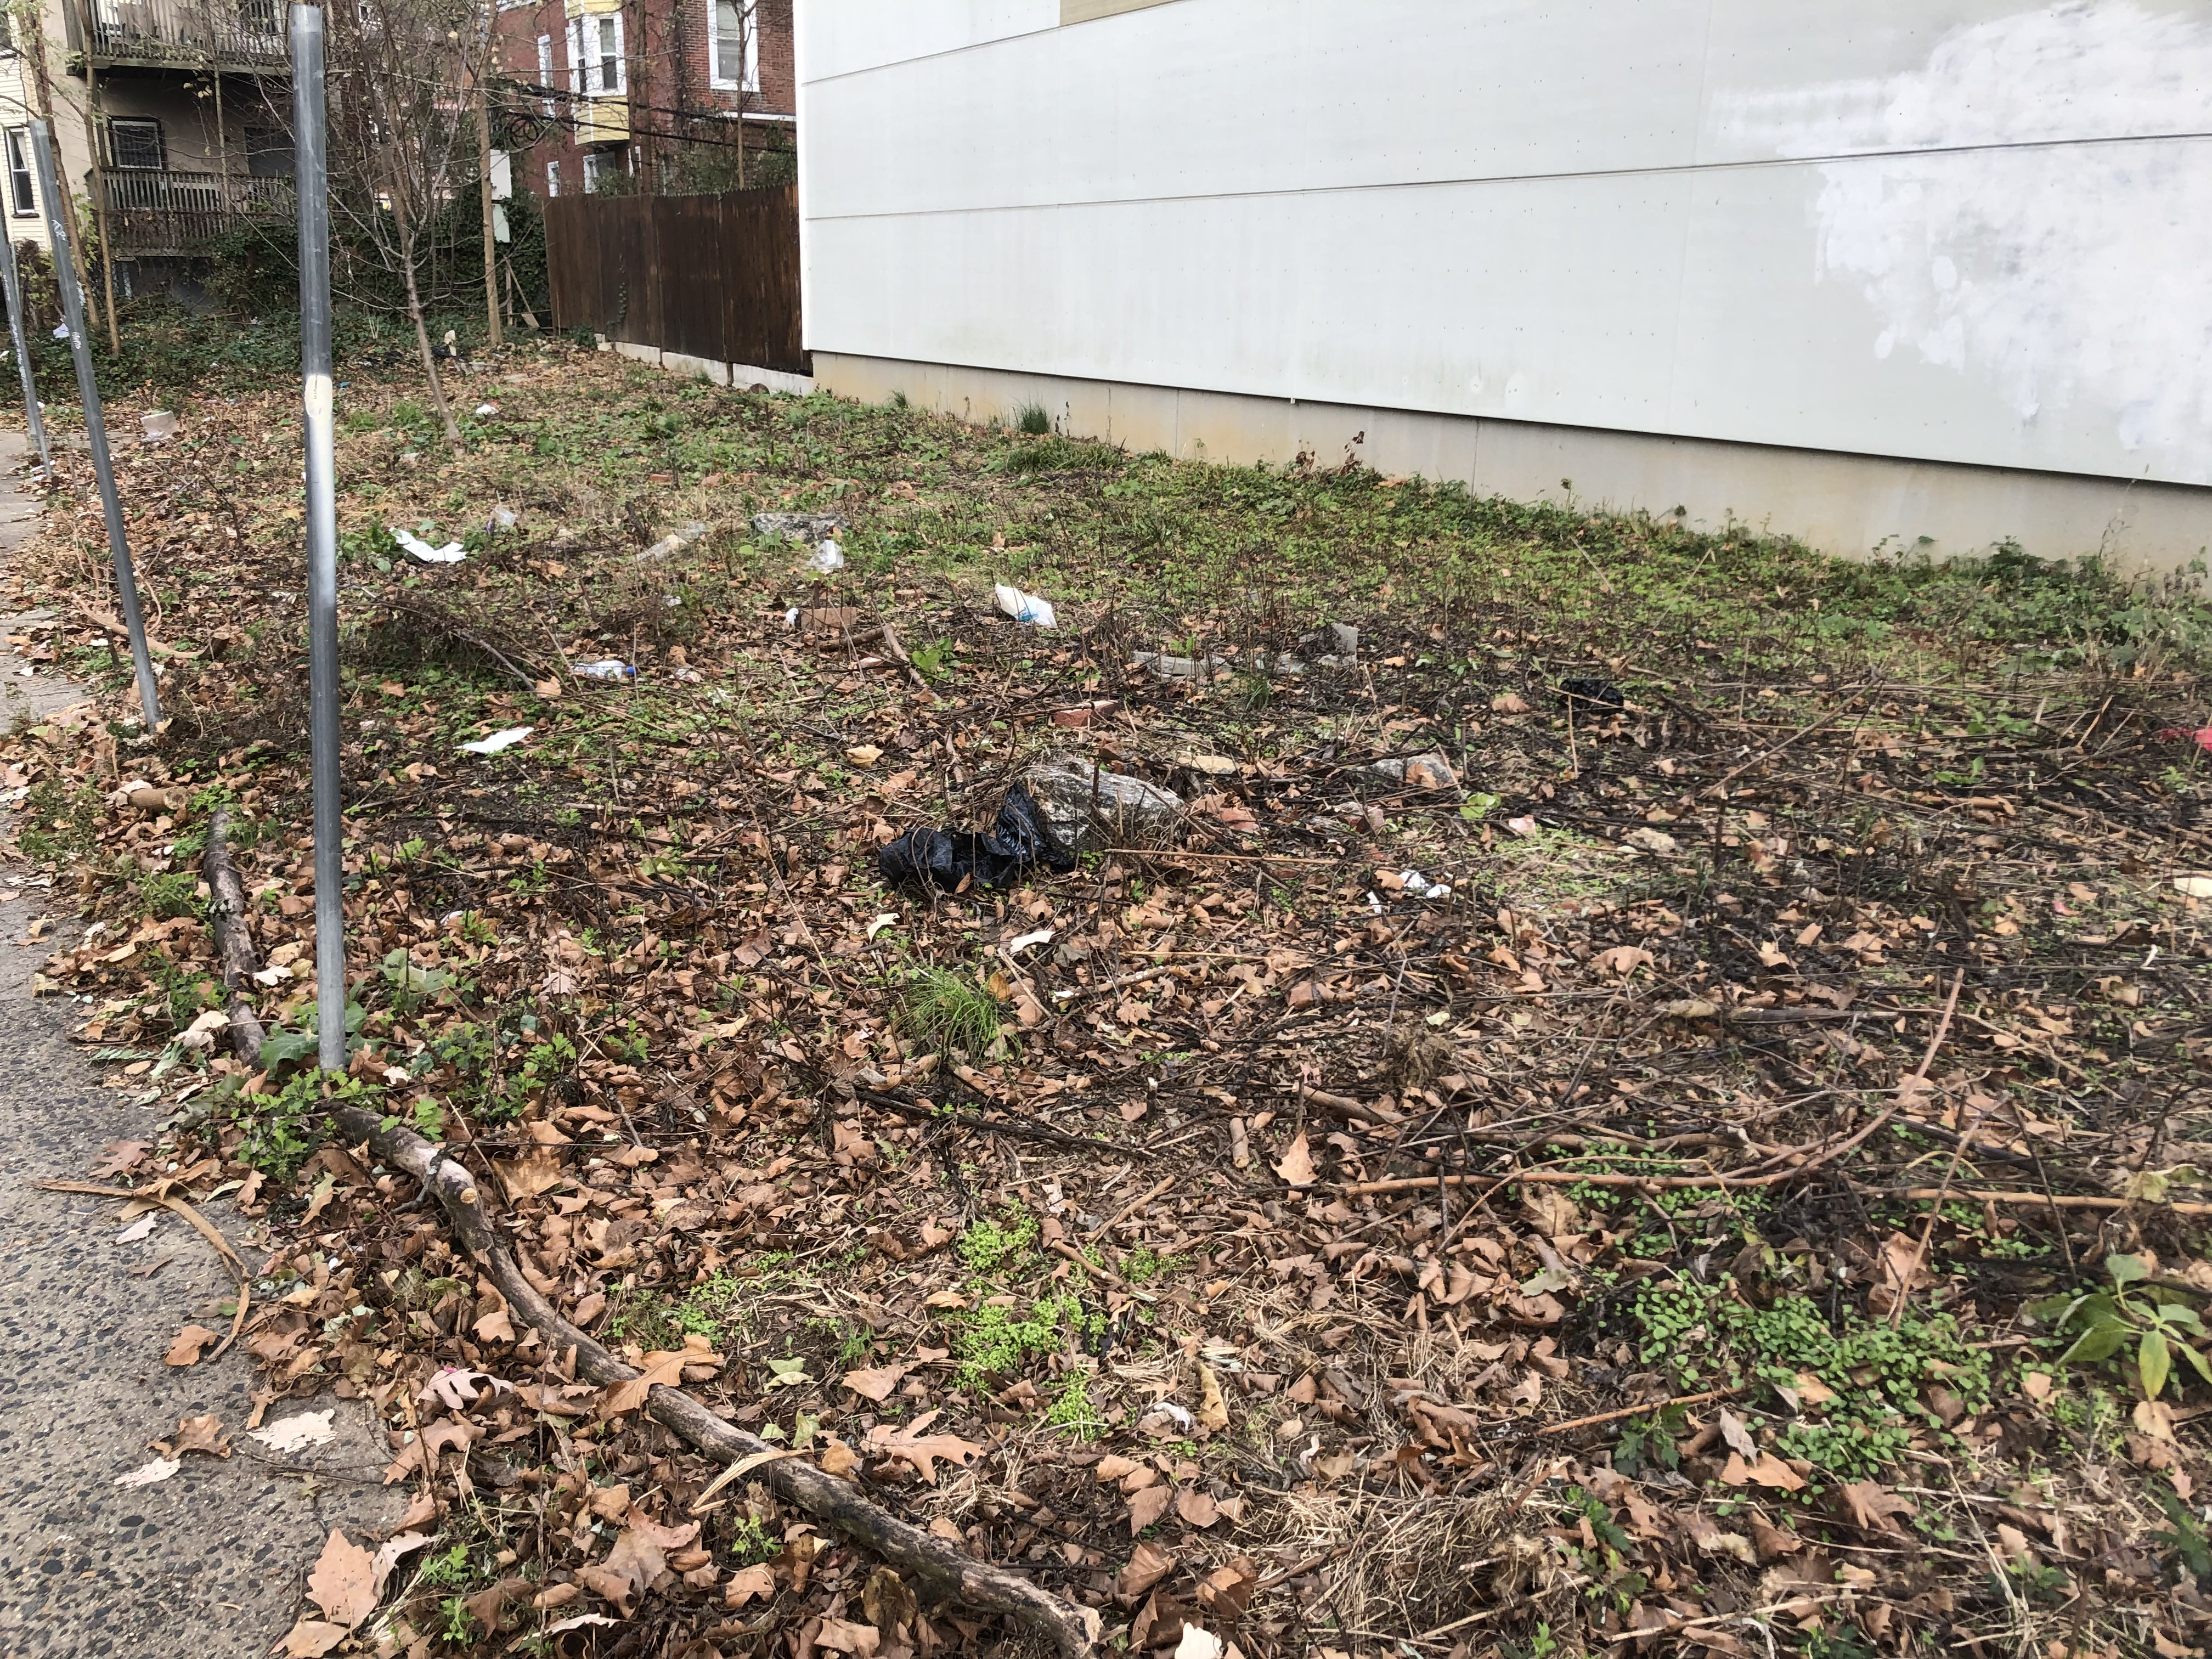good_lawn: (462, 612, 2212, 1466)
trash: (852, 779, 1090, 917), (986, 568, 1061, 680)
